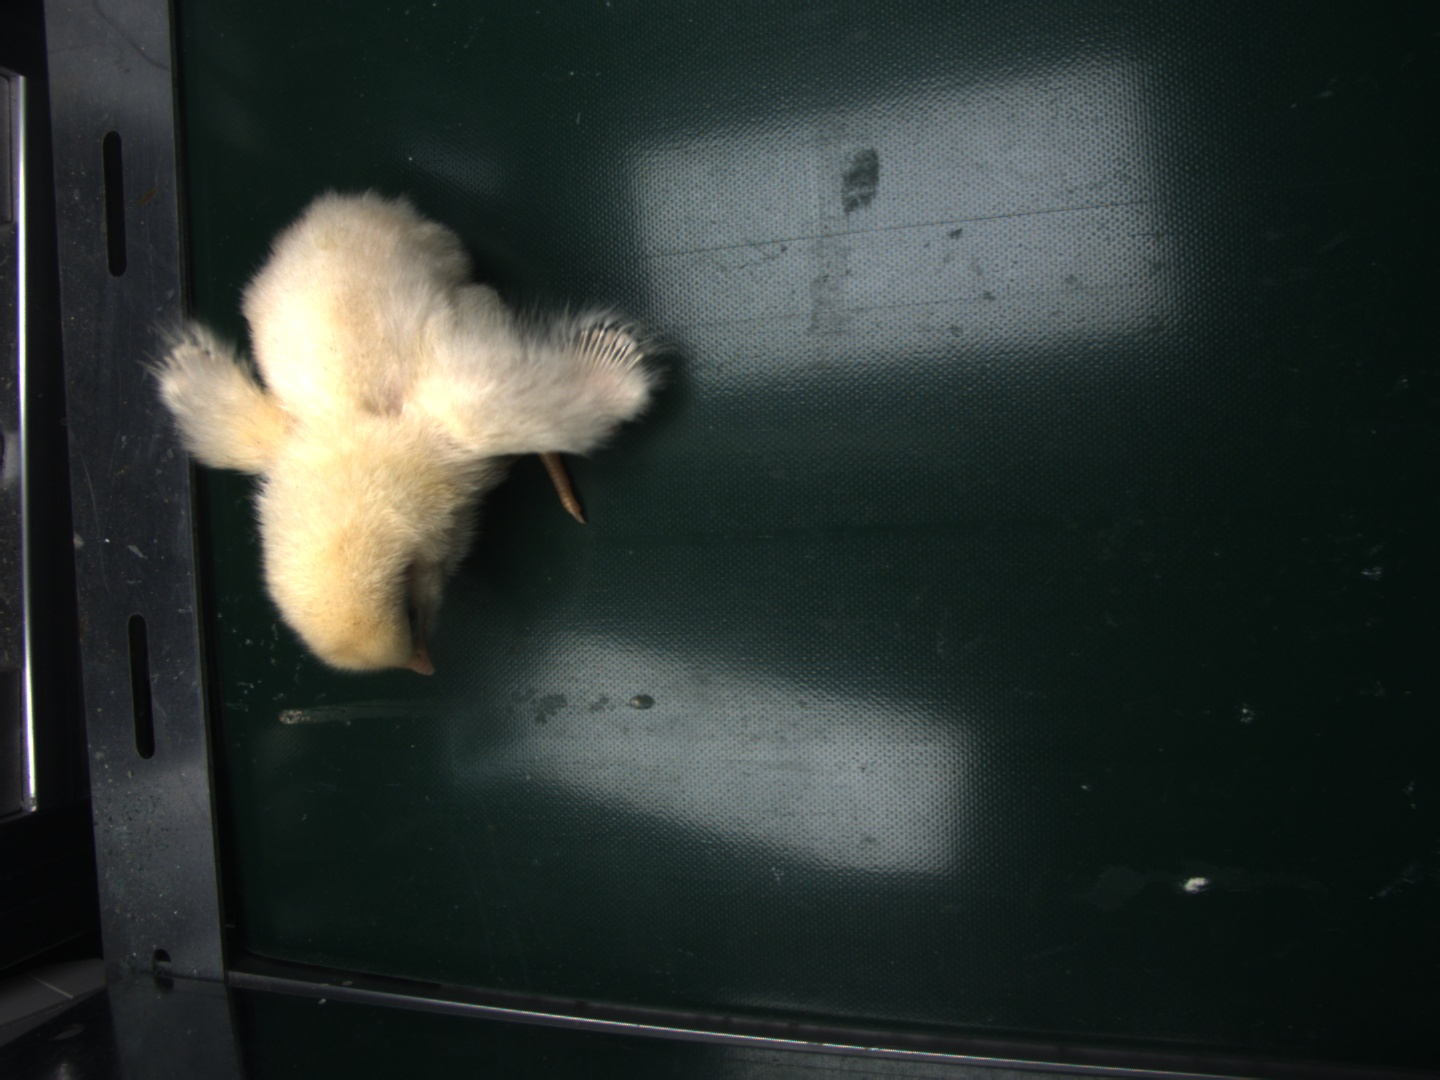male: (576, 321, 645, 370)
